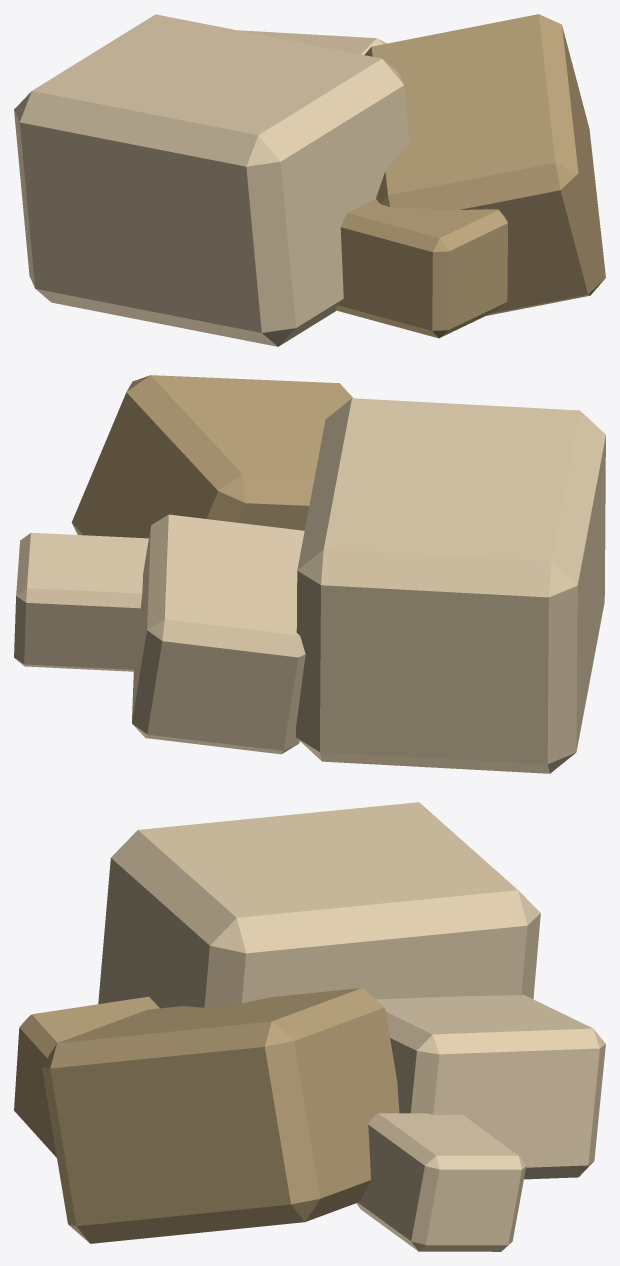
File: hd_rubble.gltf
The picture shows the model from 3 angles, top to bottom: view 1: azimuth 30°, elevation 25°; view 2: azimuth 150°, elevation 25°; view 3: azimuth 270°, elevation 25°; orthographic projection. The views are drawn at different scales.
Parts seen in each view (by area): view 1: r0, r1, r3, r2; view 2: r0, r2, r1, r4; view 3: r0, r1, r2, r4, r3.
Part boxes in pixels (x1,y1,x2,y2): r0: [14, 14, 409, 346]; r1: [364, 14, 605, 315]; r3: [335, 199, 507, 338]; r2: [238, 30, 386, 54]; r0: [296, 398, 605, 773]; r2: [132, 514, 305, 754]; r1: [71, 375, 353, 538]; r4: [14, 532, 148, 671]; r0: [98, 802, 540, 1008]; r1: [42, 988, 399, 1243]; r2: [376, 994, 605, 1179]; r4: [356, 1113, 526, 1251]; r3: [14, 996, 159, 1157].
Size of the model in its own units: 1.09 by 0.514 by 0.9717.
